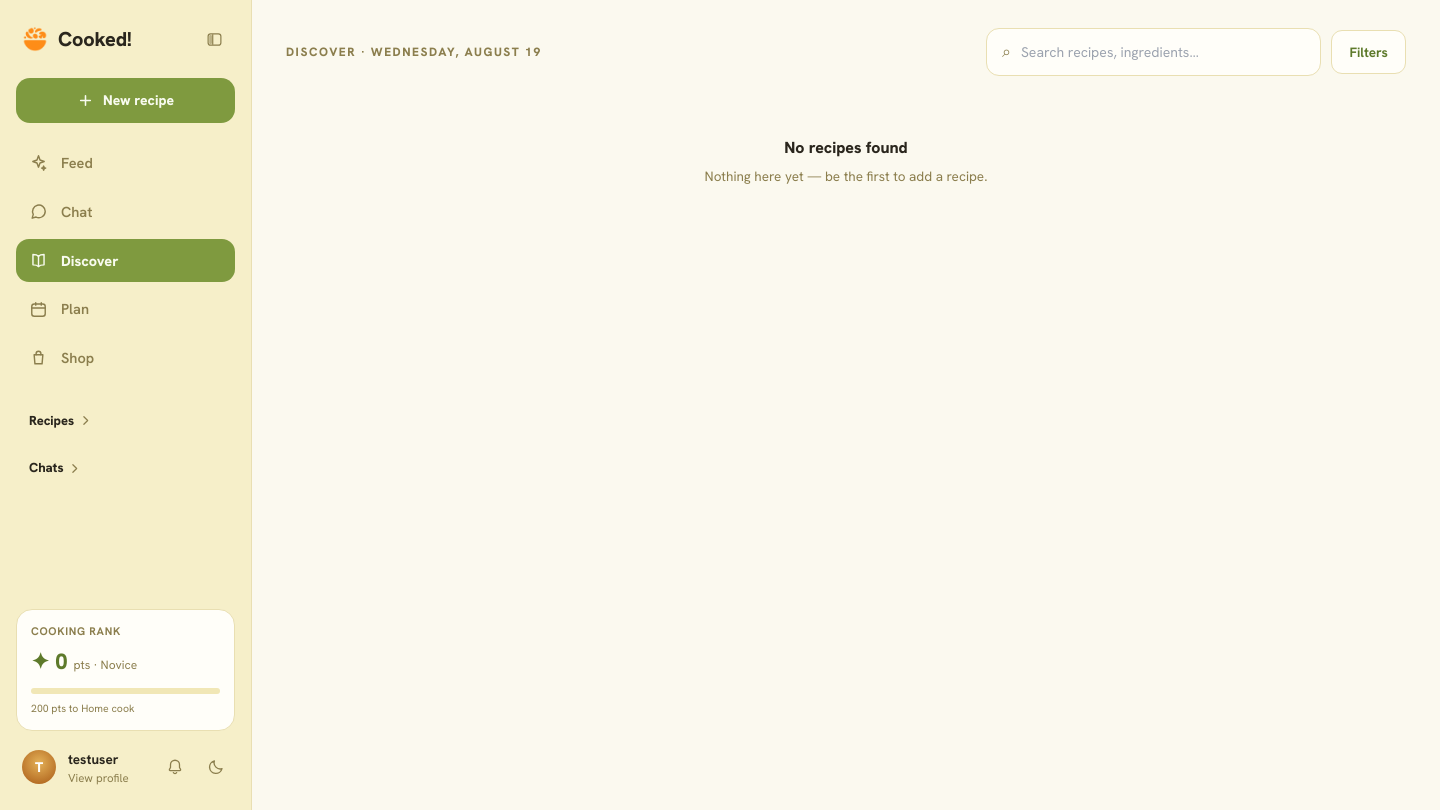
BrowsePage search › clears the term along with the other filters from the empty state
This screenshot has width=1440, height=810.
Expected: the text "No recipes found" is shown, [784,137,908,158]
Type "ramen" into the field labelled "Search recipes" at (1163, 52), box [1021,42,1305,62]
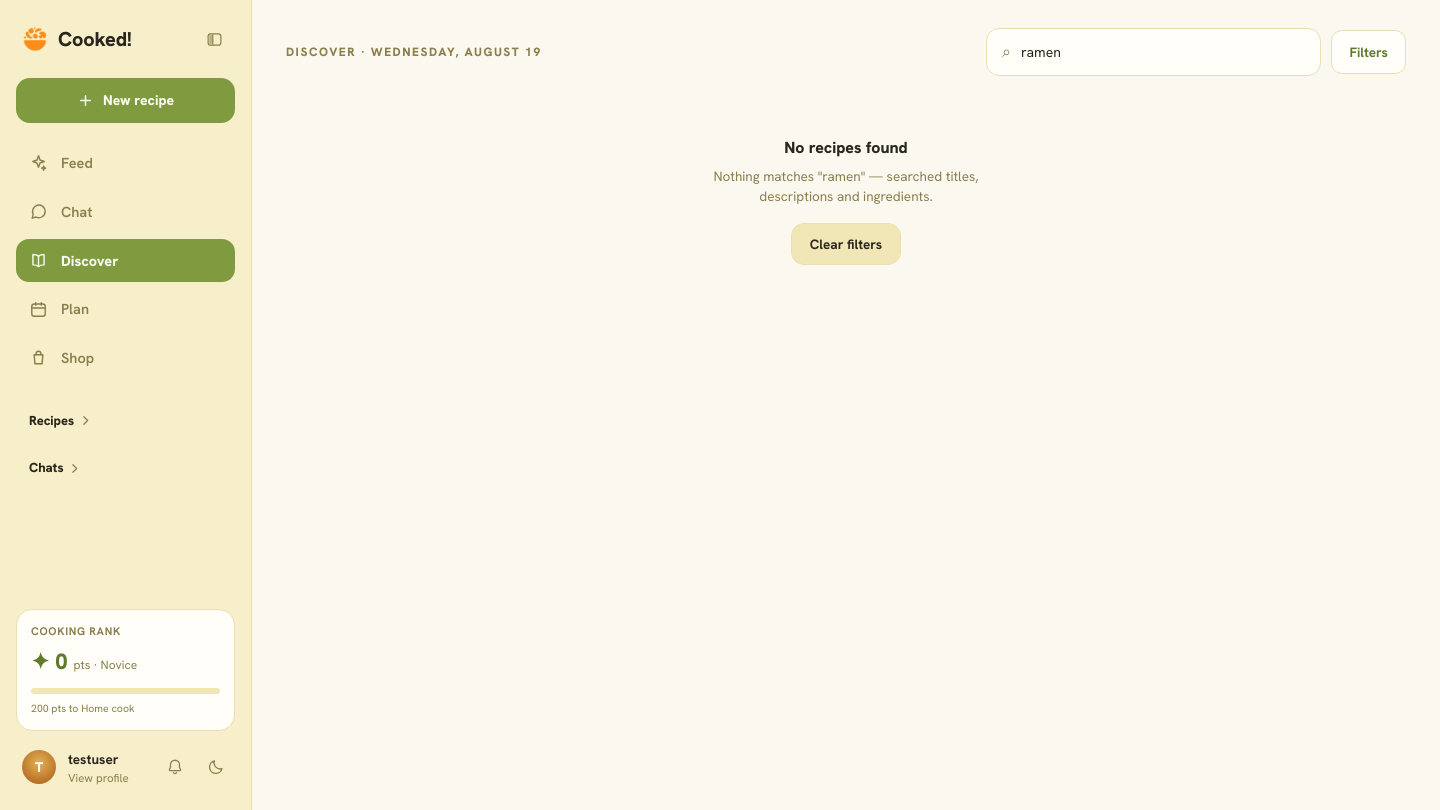
Click the button "Clear filters" at (846, 244), box [791,222,901,265]
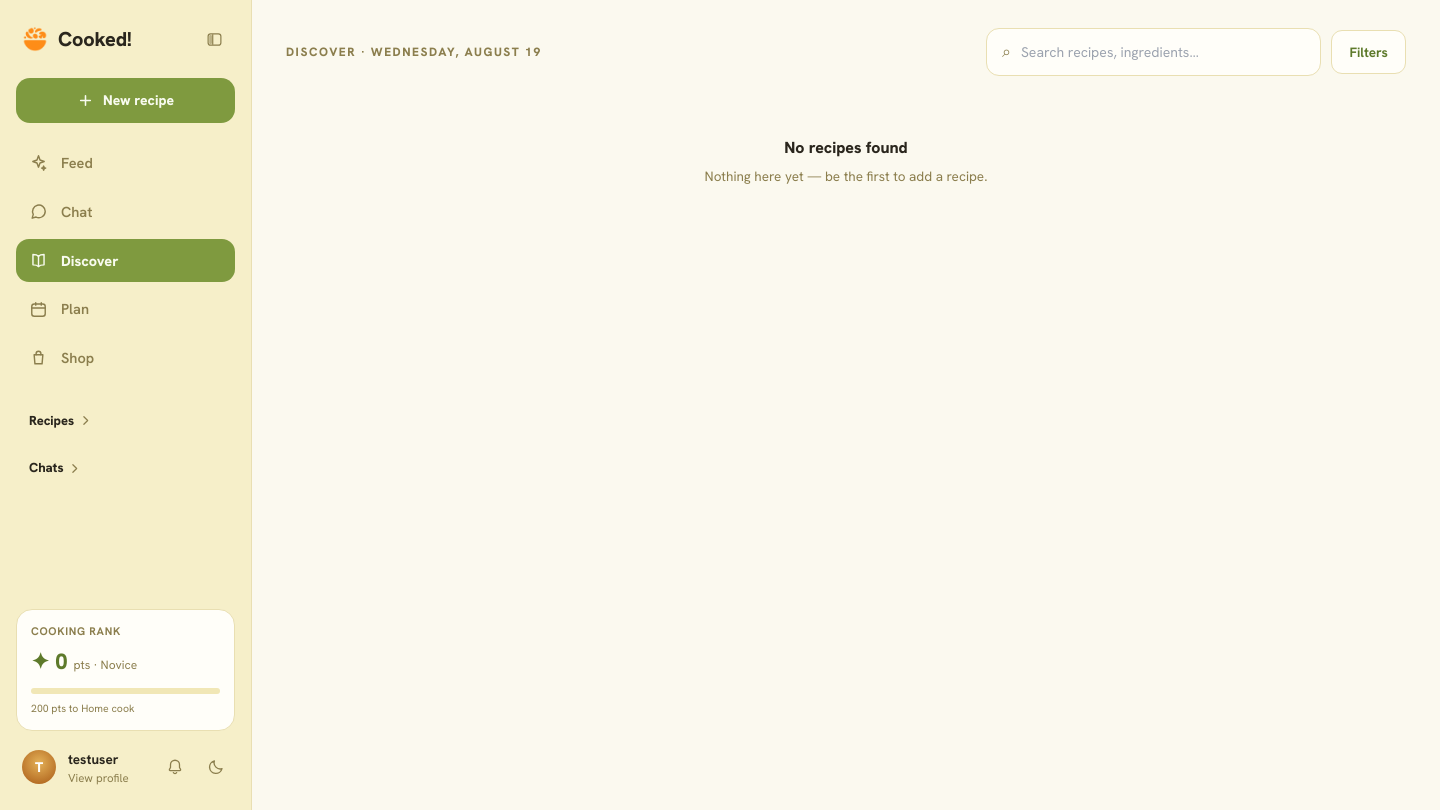
Result: the field labelled "Search recipes" is empty at [1021,42,1305,62]
